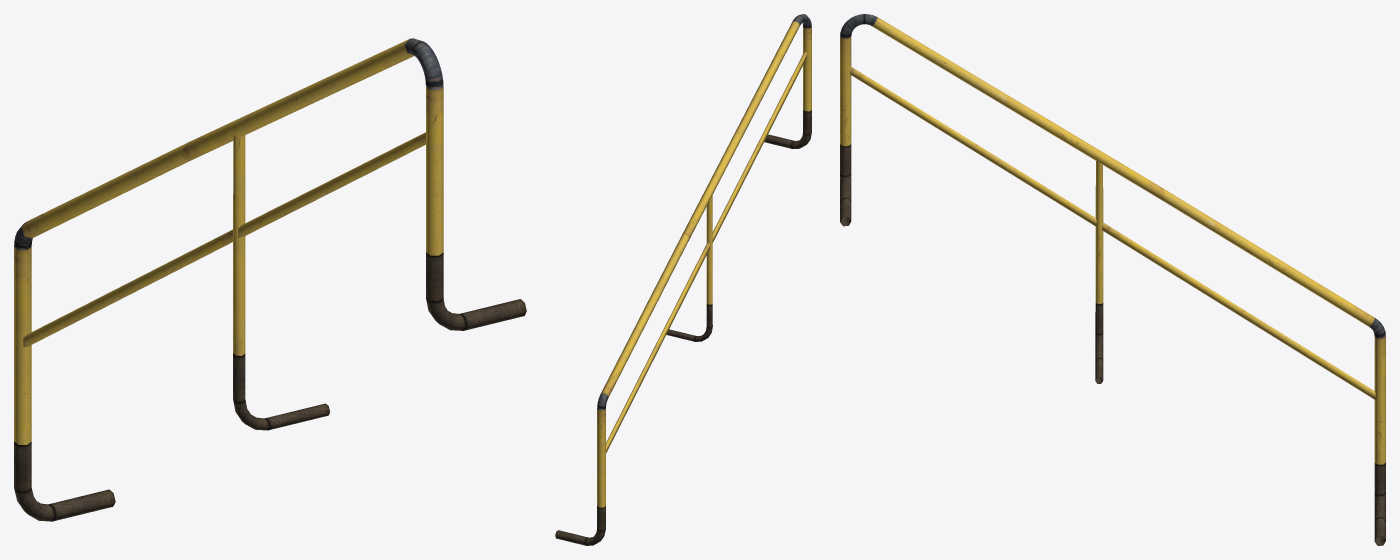
File: Railing_01.fbx
The picture shows the model from 3 angles, left to right: view 1: azimuth 30°, elevation 25°; view 2: azimuth 150°, elevation 25°; view 3: azimuth 270°, elevation 25°; orthographic projection. The views are drawn at different scales.
Parts seen in each view (by area): view 1: Railing_01; view 2: Railing_01; view 3: Railing_01.
Part boxes in pixels (x1,y1,x2,y2): Railing_01: (14,38,526,521); Railing_01: (555,14,811,545); Railing_01: (840,14,1385,545).
Bounding box in the file's own units: 38.03 × 296 × 291.
1 material, 1 textured.
